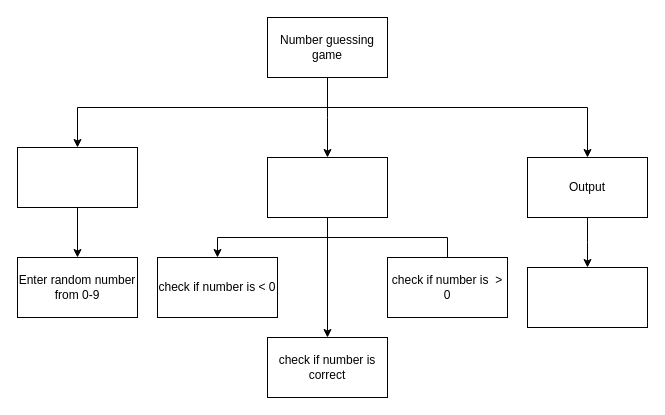
Some shapes in this 665 by 415 pixel diagram are drawn without their labels. The centre of each missing label's shape, as x and y in pixels:
Input: pixel 77 177
Process: pixel 327 187
Show answer accordingly: pixel 587 297
